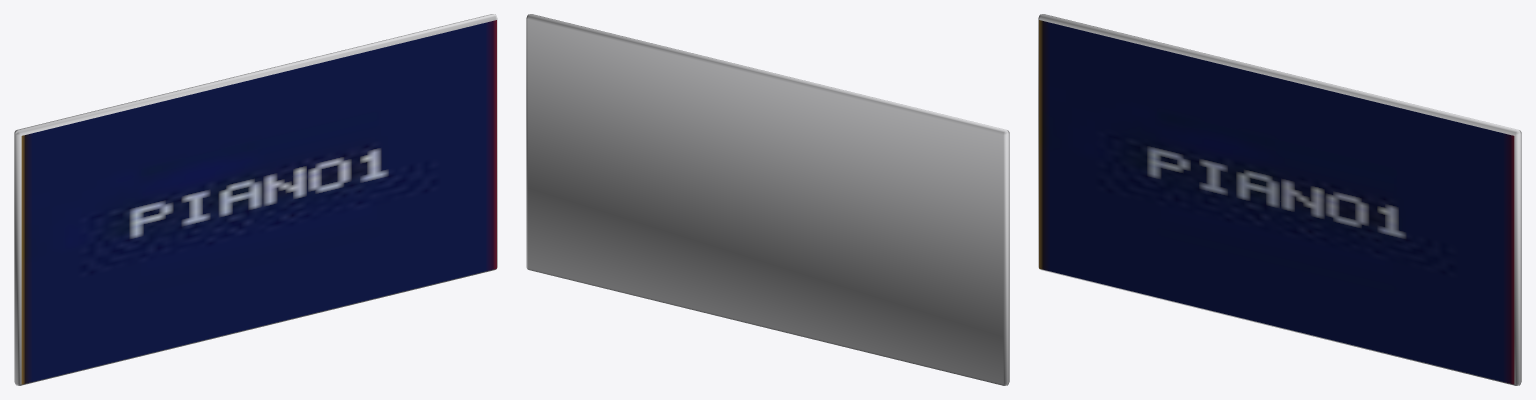
File: license_plate_3.glb
3 views of the same model, side by side, from view 1: azimuth 30°, elevation 25°; view 2: azimuth 150°, elevation 25°; view 3: azimuth 330°, elevation 25° (orthographic).
Parts seen in each view (by area): view 1: Plate, Plate back; view 2: Plate back; view 3: Plate, Plate back.
Boxes of the visible parts, bbox=[...] form: Plate: bbox=[21, 20, 496, 384]; Plate back: bbox=[14, 14, 497, 385]; Plate back: bbox=[526, 14, 1009, 385]; Plate: bbox=[1039, 20, 1514, 384]; Plate back: bbox=[1038, 14, 1521, 385].
Bounding box in the file's own units: 0.304 × 0.154 × 0.006.
2 materials, 1 textured.
